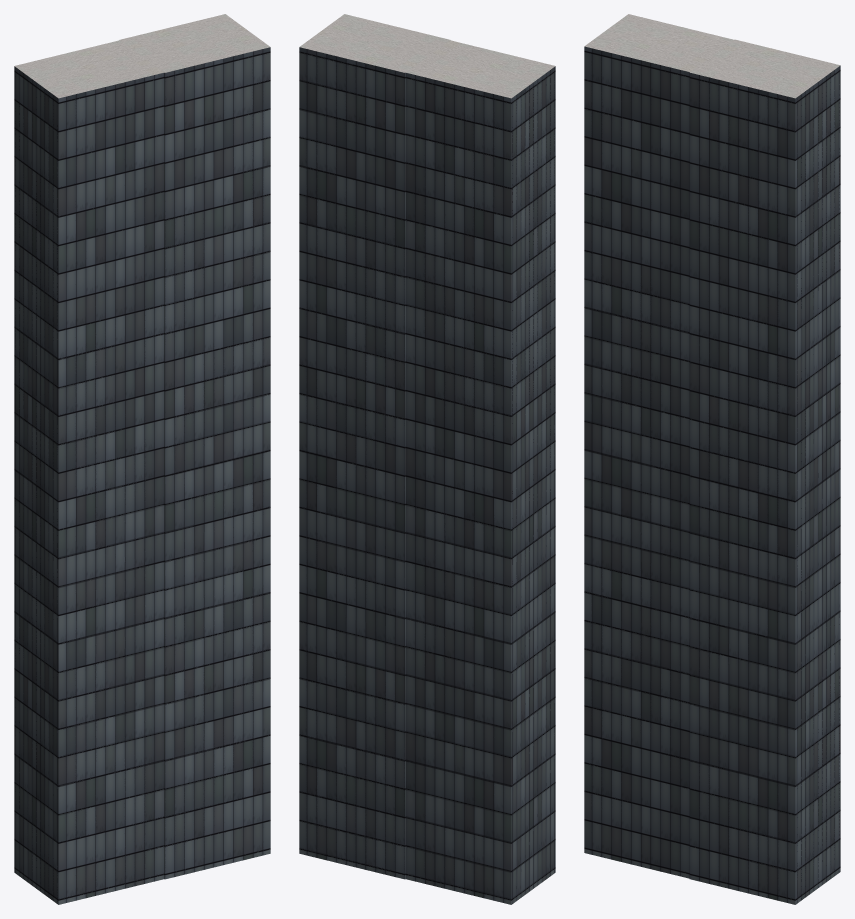
The picture shows the model from 3 angles, left to right: view 1: azimuth 30°, elevation 25°; view 2: azimuth 150°, elevation 25°; view 3: azimuth 330°, elevation 25°; orthographic projection.
Visible parts, largest first — view 1: building36, building36_cell, building36_cell.001, building36_cell.002, building36_cell.003; view 2: building36, building36_cell.001, building36_cell, building36_cell.002, building36_cell.003; view 3: building36, building36_cell, building36_cell.001, building36_cell.002, building36_cell.003.
Boxes of the visible parts, <box> form: building36: <box>14,14,270,904</box>; building36_cell: <box>14,15,270,426</box>; building36_cell.001: <box>14,270,270,595</box>; building36_cell.002: <box>14,583,270,904</box>; building36_cell.003: <box>14,533,208,784</box>; building36: <box>299,14,555,904</box>; building36_cell.001: <box>299,243,555,625</box>; building36_cell: <box>299,14,555,397</box>; building36_cell.002: <box>299,606,555,904</box>; building36_cell.003: <box>405,537,532,666</box>; building36: <box>584,14,840,904</box>; building36_cell: <box>584,14,840,375</box>; building36_cell.001: <box>584,260,840,630</box>; building36_cell.002: <box>584,619,840,904</box>; building36_cell.003: <box>584,482,722,732</box>.
Bounding box in the file's own units: 4.05 × 14.74 × 1.5.
Materials: 2 (2 with a texture image).
